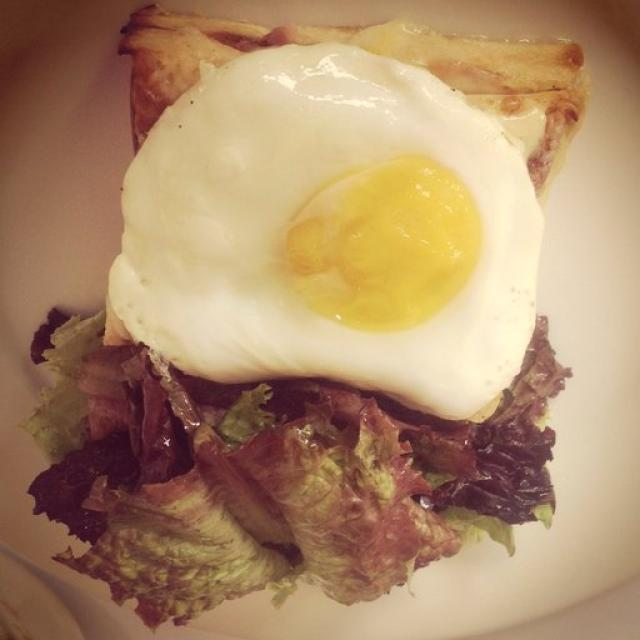telur ceplok: (104, 40, 545, 421)
